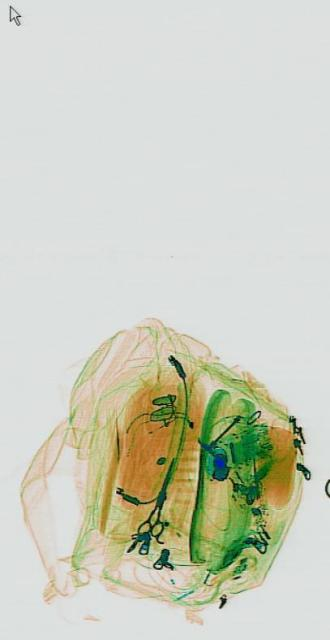Scissors: (134, 447, 182, 553)
